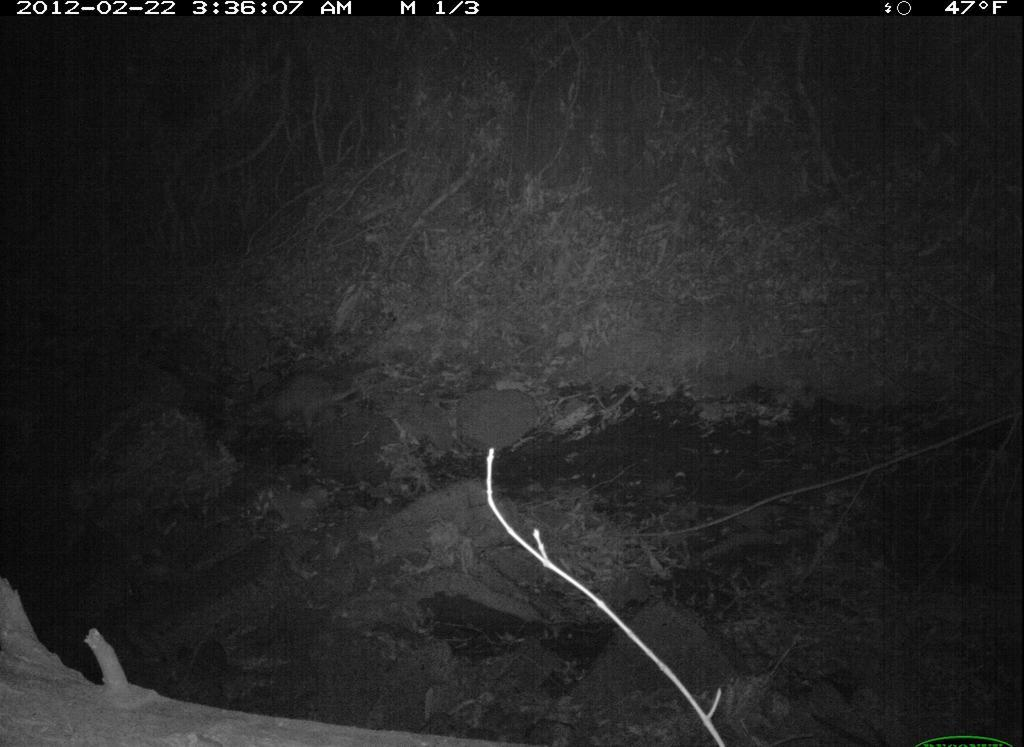opossum: (245, 360, 373, 440)
